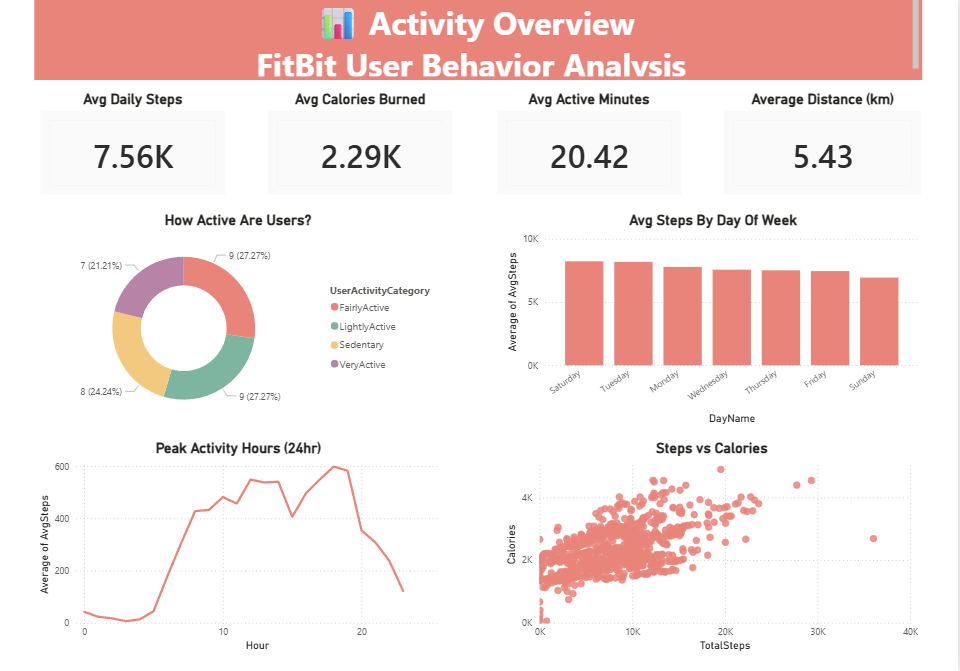

The page's visual inventory and layout, read from the dashboard file:
{"tool":"powerbi","page":{"name":"Activity Overview","canvas":[1280,900],"ordinal":0},"visuals":[{"type":"cardVisual","title":"Avg Daily Steps","fields":{"Data":["Avg(analysis_user_averages.AvgDailySteps)"]},"box":[51.7,127.4,256,144],"z":0},{"type":"cardVisual","title":"Avg Calories Burned","fields":{"Data":["Avg(analysis_user_averages.AvgDailyCalories)"]},"box":[355.7,127.4,256,144],"z":1000},{"type":"cardVisual","title":"Avg Active Minutes","fields":{"Data":["Avg(analysis_user_averages.AvgVeryActiveMinutes)"]},"box":[659.7,127.4,256,144],"z":2000},{"type":"cardVisual","title":"Average Distance (km)","fields":{"Data":["Avg(analysis_user_averages.AvgDailyDistance)"]},"box":[963.7,127.4,272,144],"z":3000},{"type":"donutChart","title":"How Active Are Users?","fields":{"Category":["analysis_user_averages.UserActivityCategory"],"Y":["CountNonNull(analysis_user_averages.Id)"]},"box":[48.8,287.8,544,288],"z":4000},{"type":"clusteredColumnChart","title":"Avg Steps By Day Of Week","fields":{"Category":["analysis_day_of_week.DayName"],"Y":["Avg(analysis_day_of_week.AvgSteps)"]},"box":[672.8,287.8,560,288],"z":5000},{"type":"lineChart","title":"Peak Activity Hours (24hr)","fields":{"Category":["analysis_hourly_steps.Hour"],"Y":["Avg(analysis_hourly_steps.AvgSteps)"]},"box":[48,592,544,288],"z":6000},{"type":"scatterChart","title":"Steps vs Calories","fields":{"X":["analysis_daily_activity.TotalSteps"],"Y":["analysis_daily_activity.Calories"]},"box":[672,592,560,288],"z":7000},{"type":"textbox","box":[48,0,1184,112],"z":7001}]}

Visuals, with their boxes in screenshot pixels (x1, y1, x2, y2), scaled from the page's 1280x900 canvas onto the 960x671 screenshot:
"Avg Daily Steps" cardVisual: <region>39, 95, 231, 202</region>
"Avg Calories Burned" cardVisual: <region>267, 95, 459, 202</region>
"Avg Active Minutes" cardVisual: <region>495, 95, 687, 202</region>
"Average Distance (km)" cardVisual: <region>723, 95, 927, 202</region>
"How Active Are Users?" donutChart: <region>37, 215, 445, 429</region>
"Avg Steps By Day Of Week" clusteredColumnChart: <region>505, 215, 925, 429</region>
"Peak Activity Hours (24hr)" lineChart: <region>36, 441, 444, 656</region>
"Steps vs Calories" scatterChart: <region>504, 441, 924, 656</region>
textbox: <region>36, 0, 924, 84</region>
